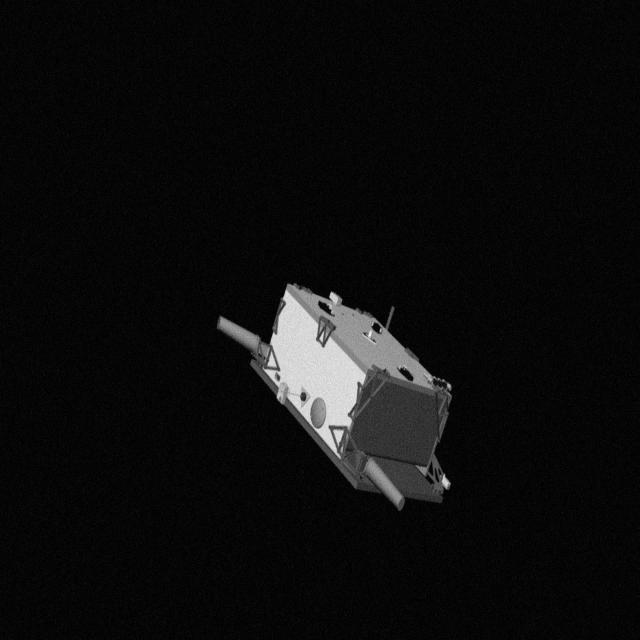medium_debris: (216, 276, 460, 514)
